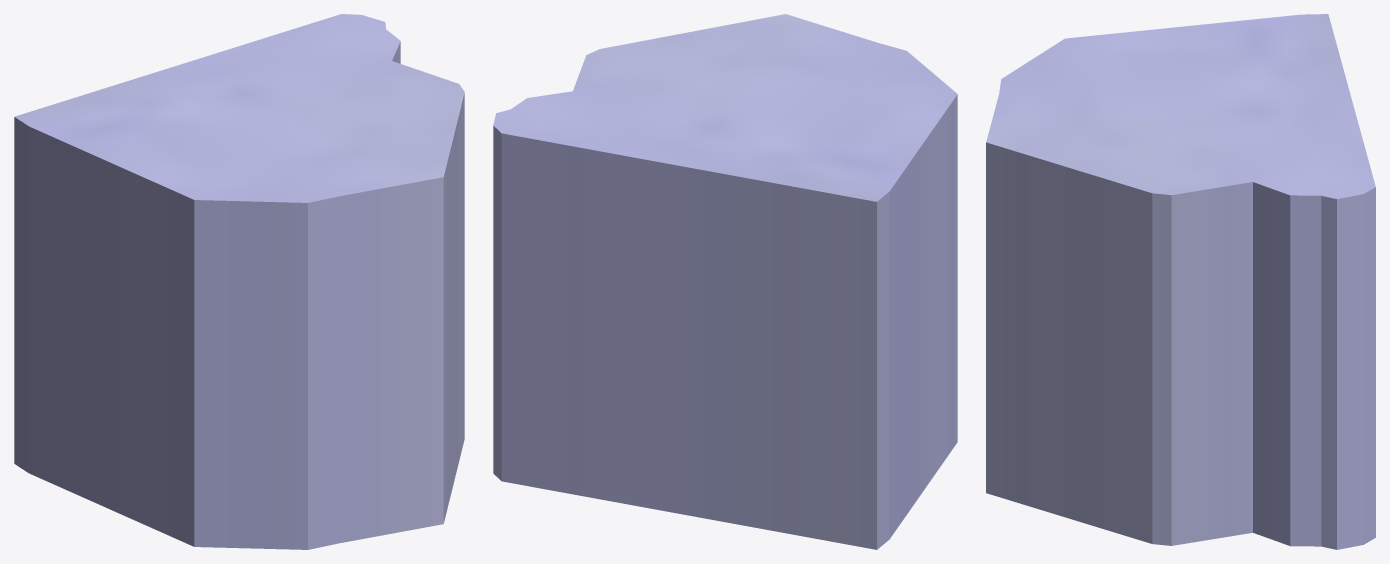
Rendered from metuchen.glb.
3 renders of one model, left to right at view 1: azimuth 30°, elevation 25°; view 2: azimuth 150°, elevation 25°; view 3: azimuth 270°, elevation 25°, orthographic.
Parts seen in each view (by area): view 1: Plane.015; view 2: Plane.015; view 3: Plane.015.
Boxes of the visible parts, x1,y1,x2,y2 form: Plane.015: (14,14,464,549); Plane.015: (493,14,957,549); Plane.015: (986,14,1375,549).
Size of the model in its own units: 0.4141 by 0.3658 by 0.3683.
Materials: 1 (1 with a texture image).
